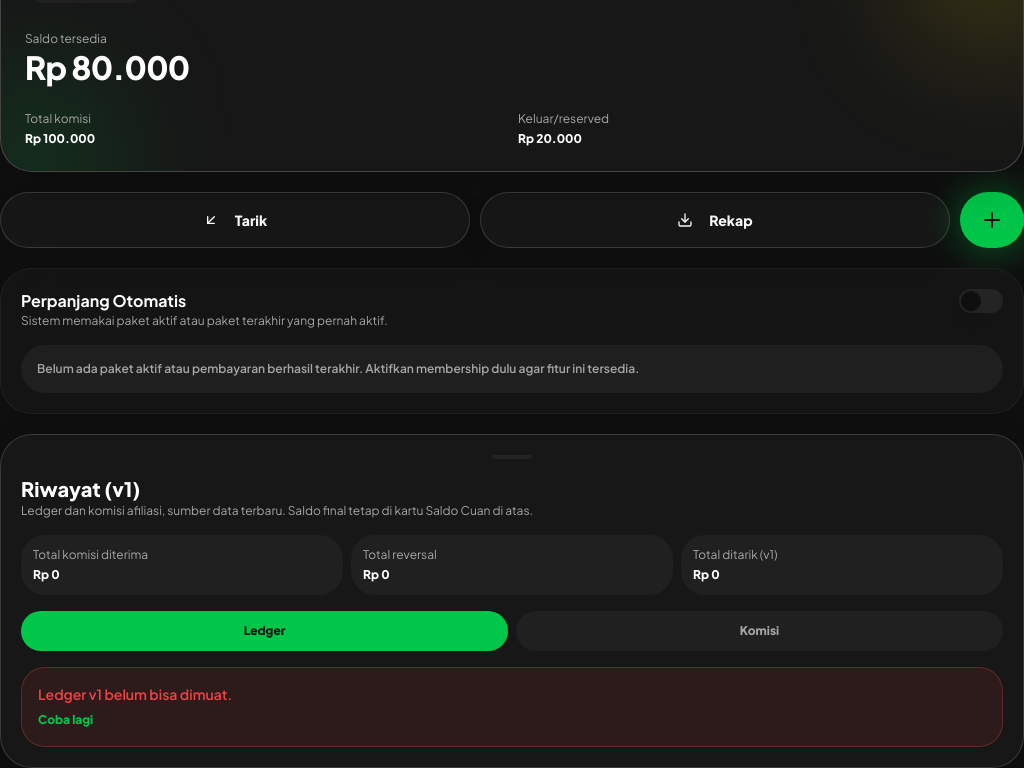
Wallet page › shows an error state with a working retry button when the v1 ledger fails
(page scrolled)
Check: the element with test id "wallet-v1-ledger-error" is shown, box [21,667,1003,747]
Step 1. Click the button "Coba lagi" → {"x": 66, "y": 720}, box [38,712,93,728]
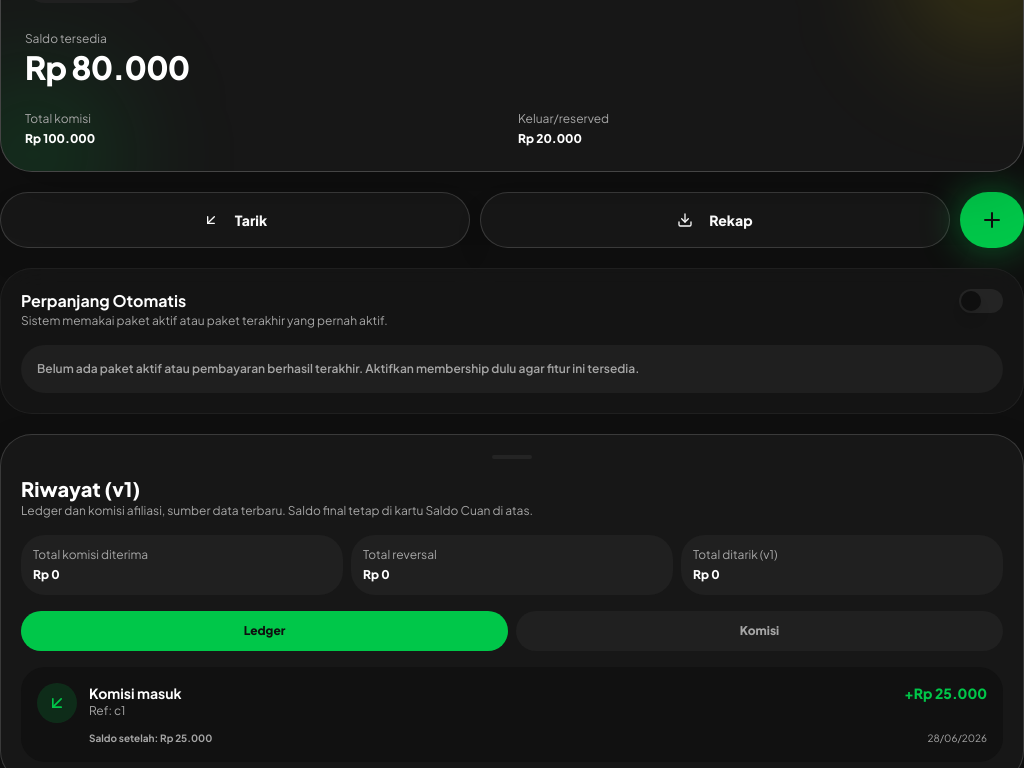
Check: the element with test id "wallet-v1-ledger-list" is shown, box [21,667,1003,762]
